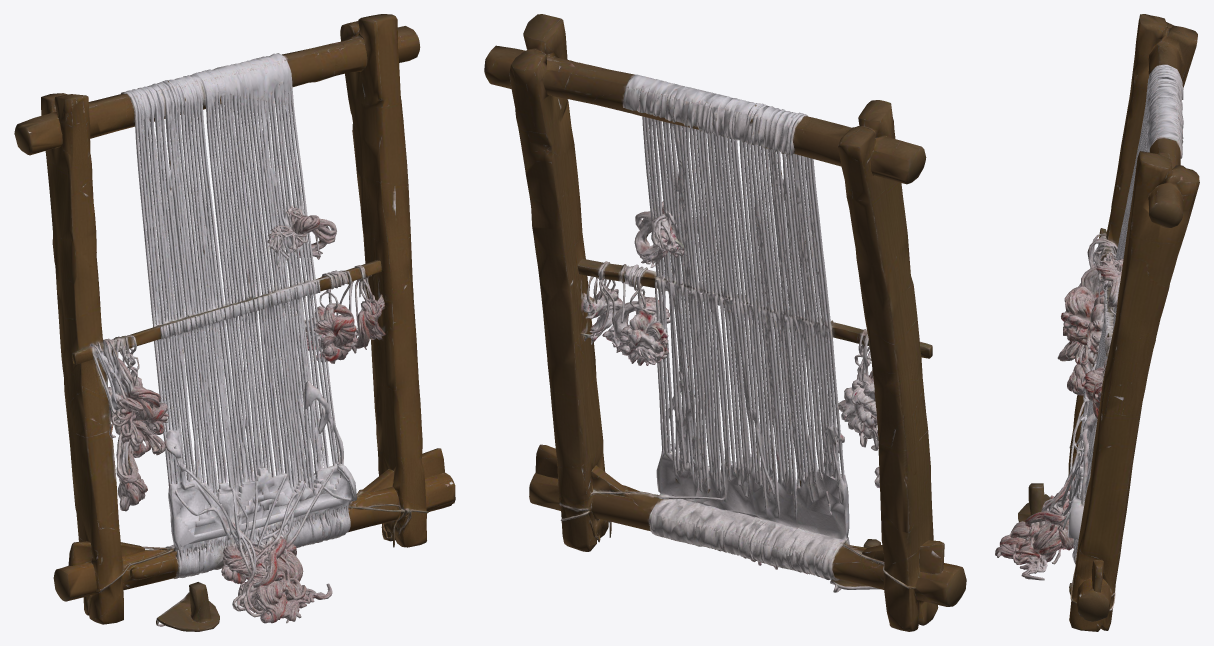
File: razboj.glb
3 views of the same model, side by side, from view 1: azimuth 30°, elevation 25°; view 2: azimuth 150°, elevation 25°; view 3: azimuth 270°, elevation 25° (orthographic). The views are drawn at different scales.
Bounding box in the file's own units: 1.54 × 1.9 × 0.7371.
Materials: 1 (1 with a texture image).
